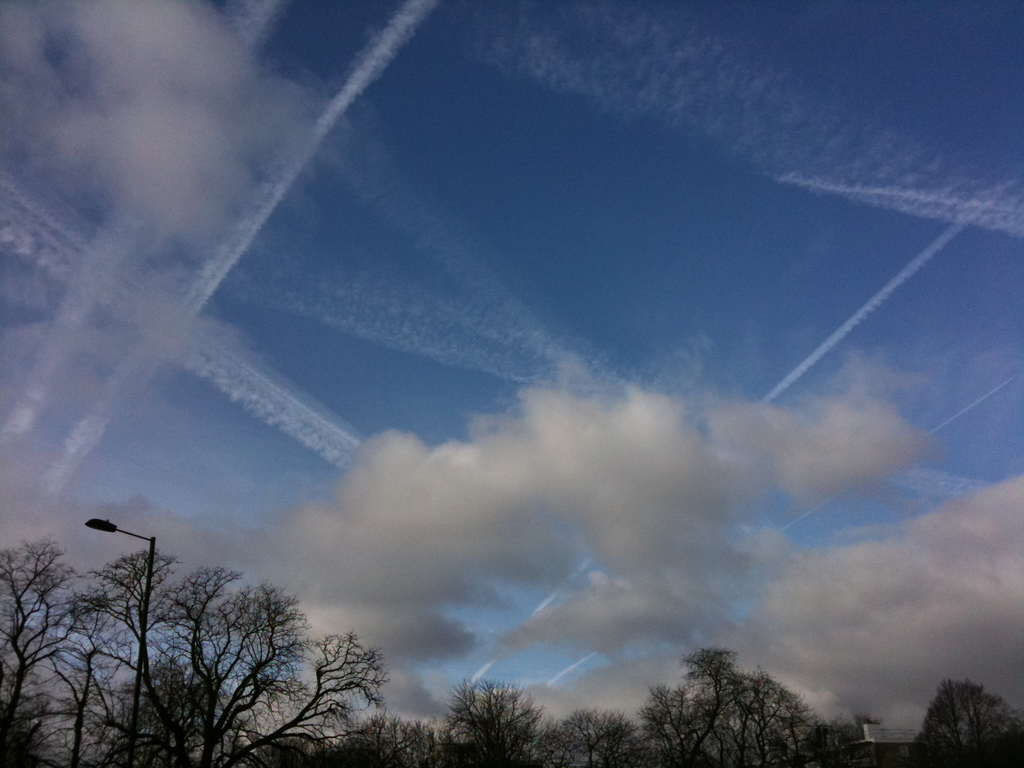Tree: (0, 531, 393, 760), (403, 678, 646, 767), (640, 650, 836, 752), (915, 675, 1023, 765)
